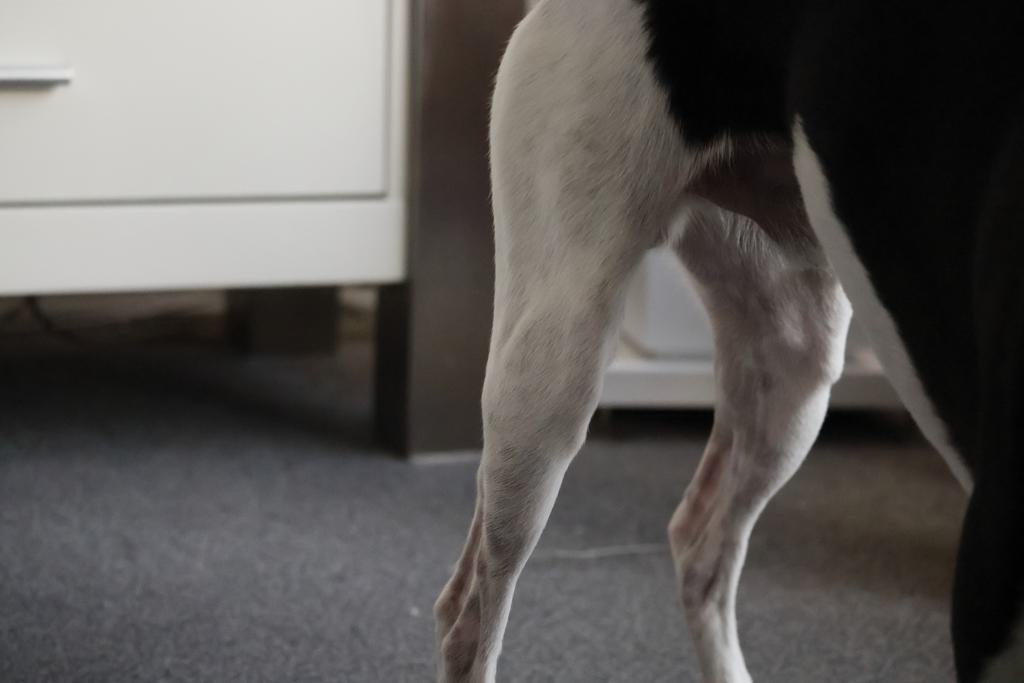Dog: (430, 0, 1024, 683)
